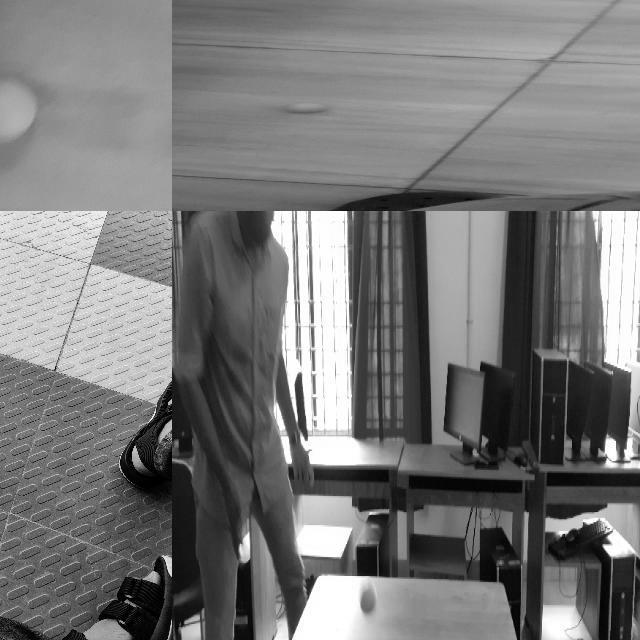ping-pong-ball: (0, 78, 38, 143), (357, 574, 376, 618), (284, 103, 324, 113)
